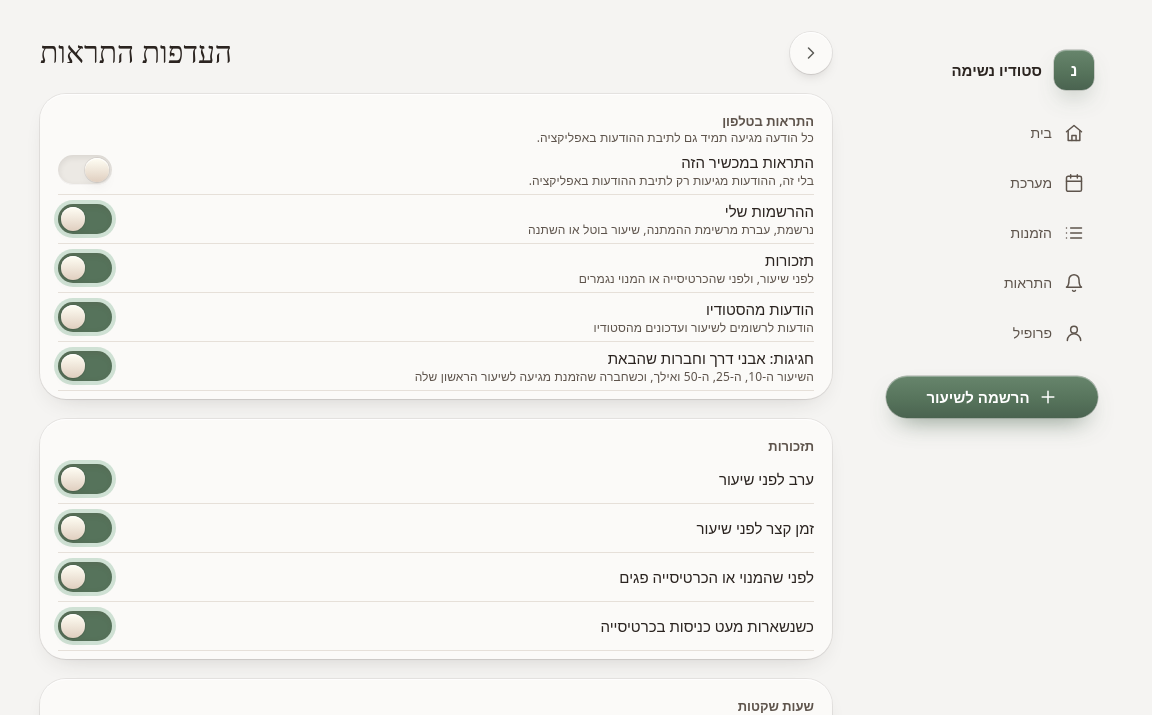
Scenario: push on this device › asks for permission from the switch, subscribes and registers this device
The width and height of the screenshot is (1152, 715).
Click the switch named "התראות במכשיר הזה". click: (85, 170)
box: [58,148,112,192]
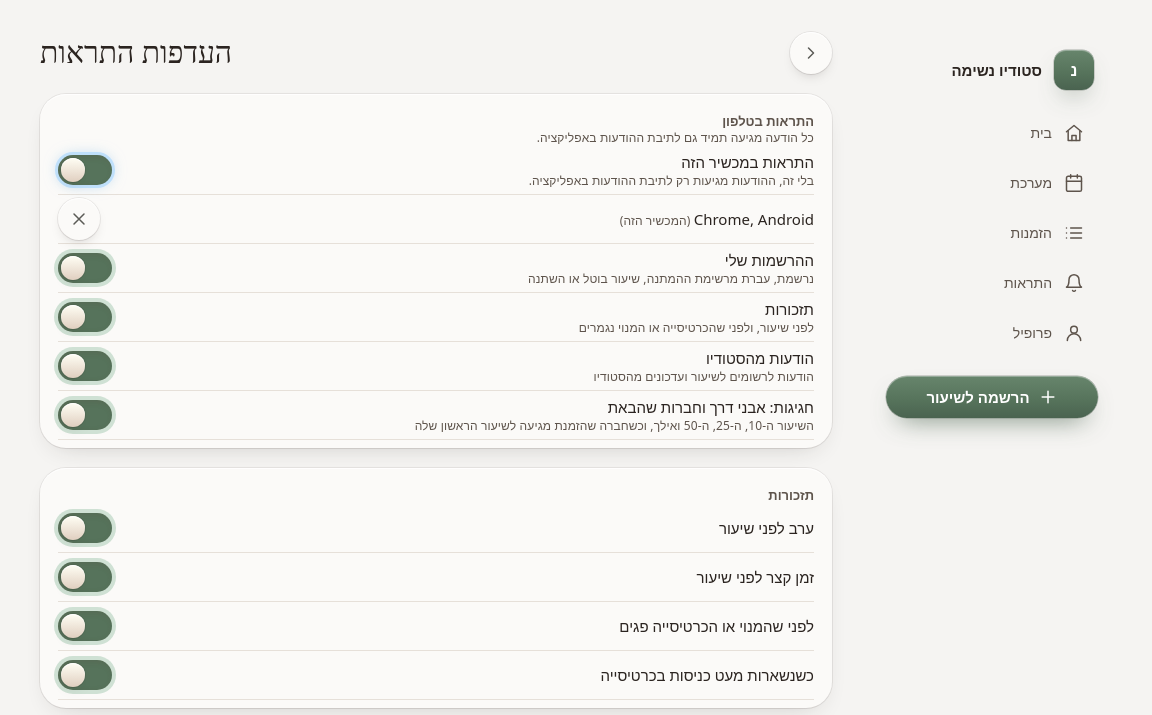
Now the switch named "התראות במכשיר הזה" is checked, box [58,148,112,192]
Now the text "(המכשיר הזה)" is shown, box [620,212,694,229]
